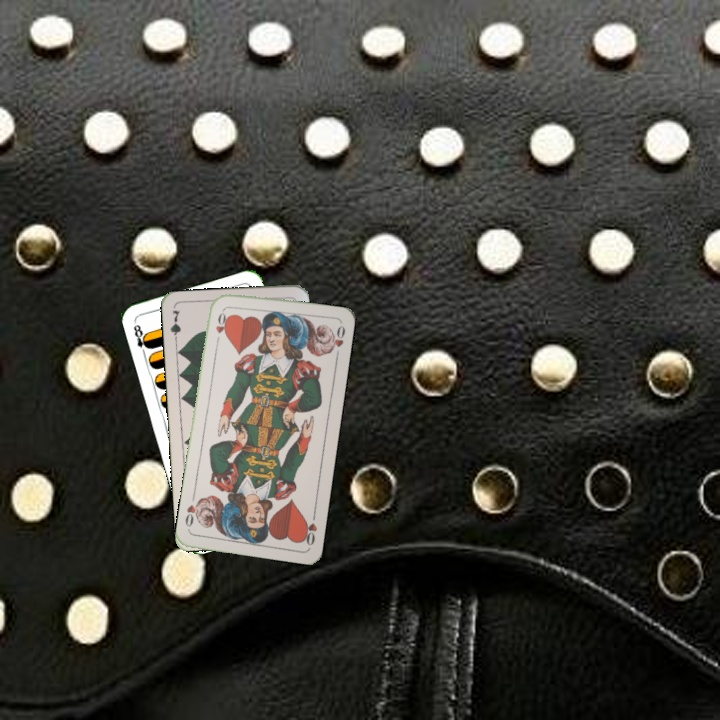E8: (129, 318, 152, 358)
G7: (166, 306, 183, 347)
HO: (299, 508, 320, 548), (211, 305, 229, 344)
